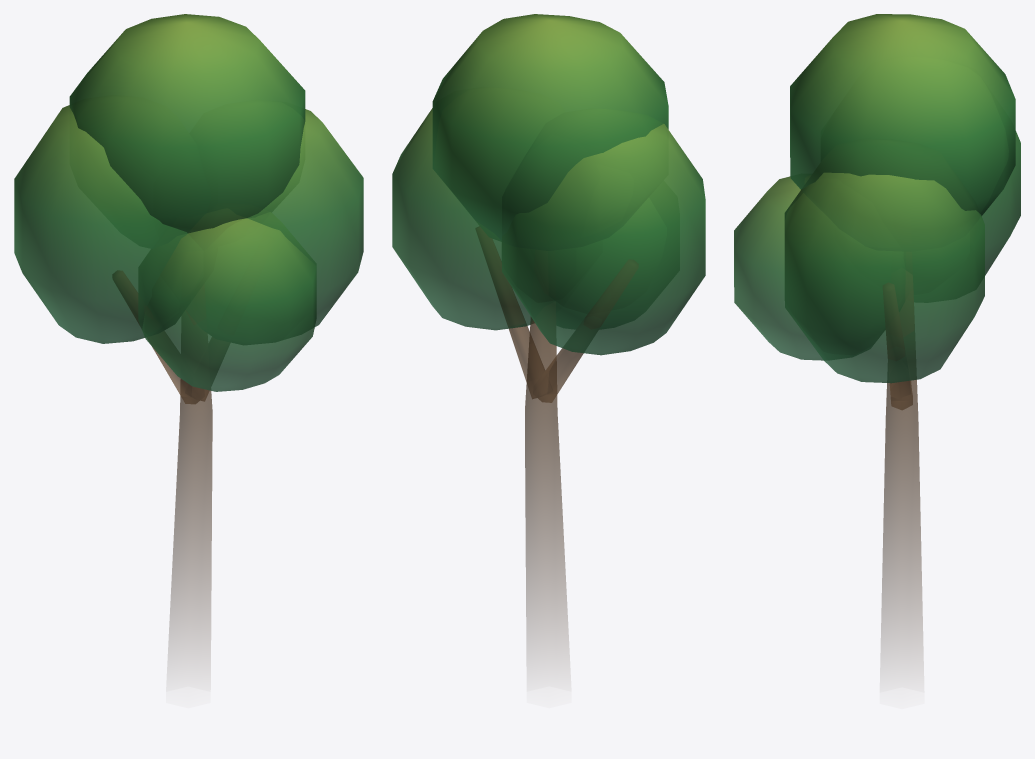
Rendered from tree_leaf_1.glb.
3 views of the same model, side by side, from view 1: azimuth 30°, elevation 25°; view 2: azimuth 150°, elevation 25°; view 3: azimuth 270°, elevation 25° (orthographic).
Visible parts, largest first — view 1: tree_leaf_1; view 2: tree_leaf_1; view 3: tree_leaf_1.
Boxes of the visible parts, x1,y1,x2,y2 form: tree_leaf_1: (14, 14, 363, 663); tree_leaf_1: (392, 14, 705, 663); tree_leaf_1: (734, 14, 1020, 664).
Size of the model in its own units: 3.88 by 8.67 by 3.19.
